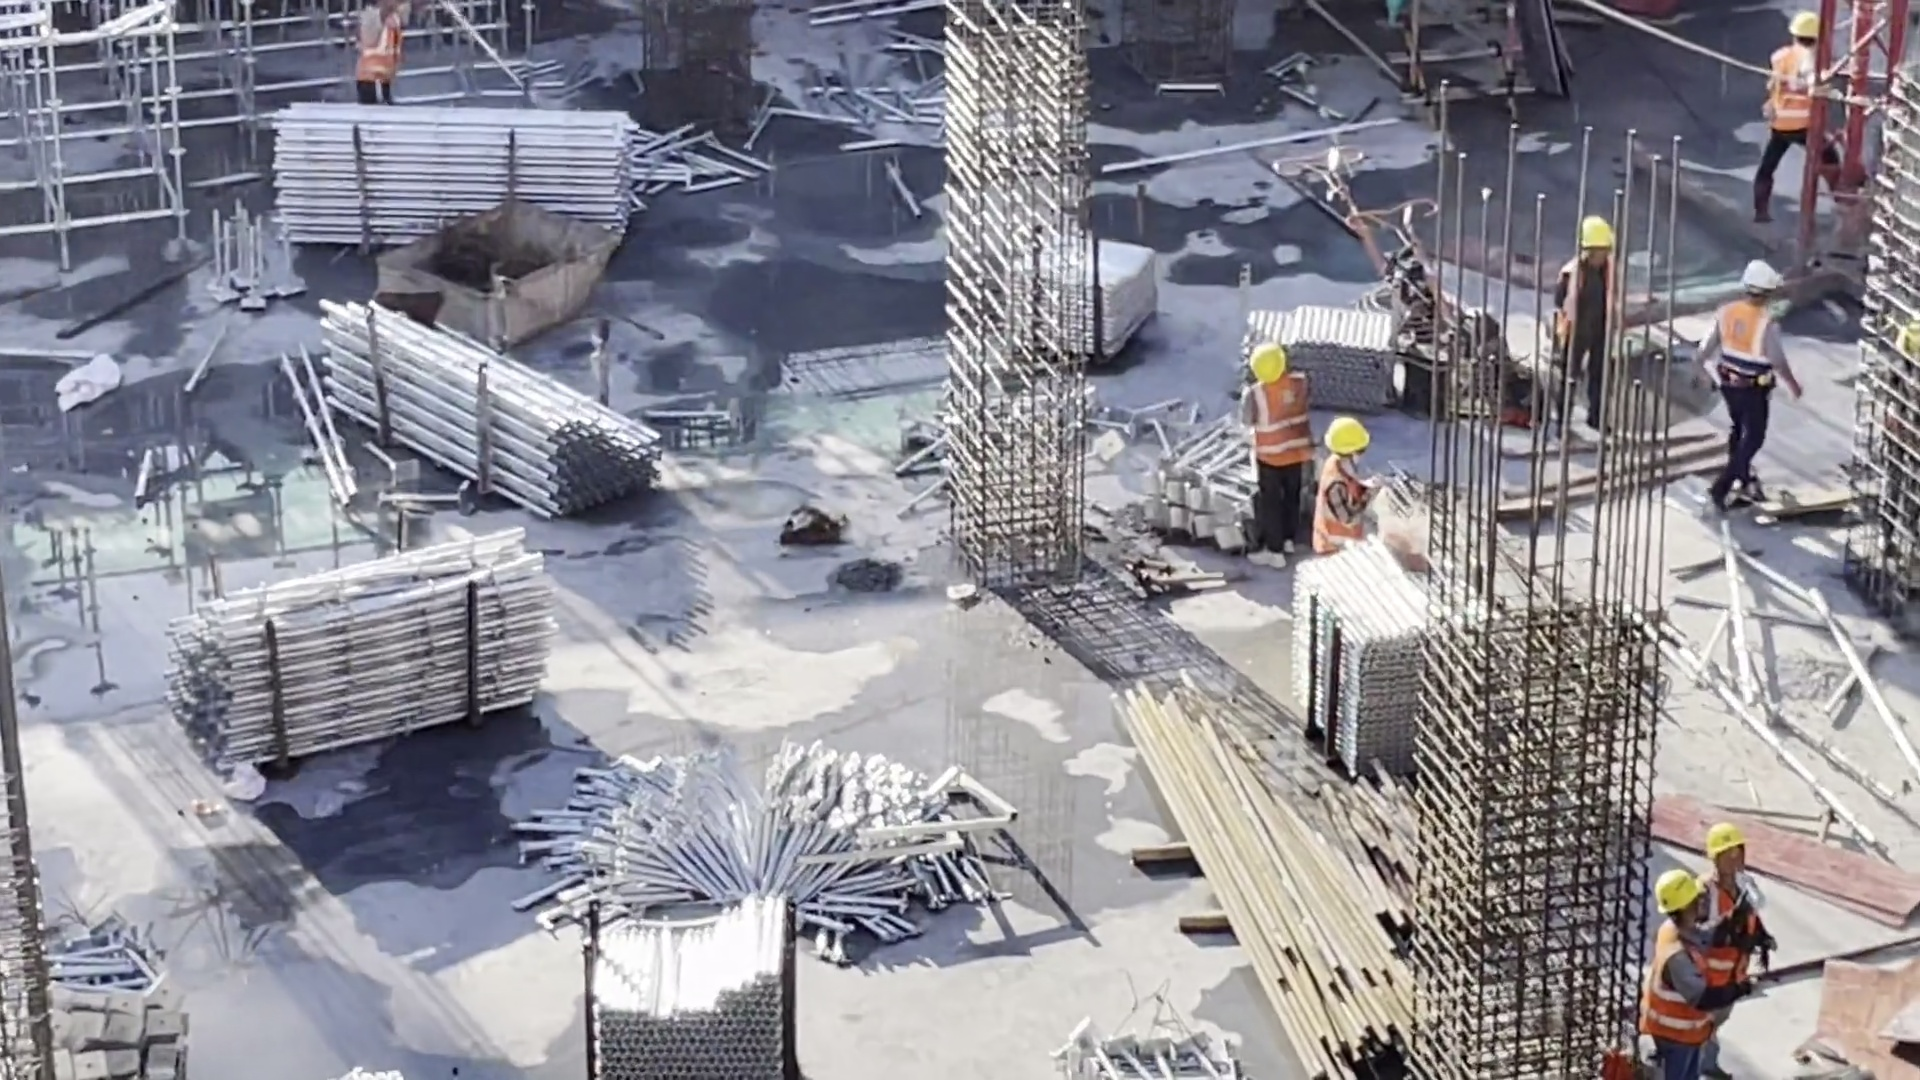board: (1806, 949, 1920, 1080)
helmet: (1584, 223, 1632, 272), (1662, 868, 1701, 917), (1248, 345, 1289, 387), (1330, 420, 1366, 461), (1747, 267, 1784, 305), (1711, 824, 1751, 860), (1789, 9, 1822, 50)
hopper: (369, 200, 629, 339)
person: (1706, 264, 1797, 526), (1759, 1, 1866, 215), (1697, 822, 1788, 1042), (1554, 222, 1641, 448), (1641, 863, 1730, 1058), (1241, 335, 1318, 550), (1306, 417, 1384, 576), (344, 1, 418, 117)
scaffold: (529, 738, 1000, 933), (304, 284, 637, 518), (167, 541, 552, 733), (262, 97, 653, 270), (563, 888, 826, 1076), (1, 895, 218, 1068), (1288, 540, 1434, 770), (1026, 227, 1173, 371), (1247, 303, 1413, 418)
vest: (1651, 927, 1719, 1031), (1255, 379, 1317, 493), (1547, 258, 1628, 337), (1315, 457, 1377, 546), (1717, 298, 1774, 394), (1699, 879, 1752, 972), (1770, 50, 1823, 137), (355, 1, 403, 80)
